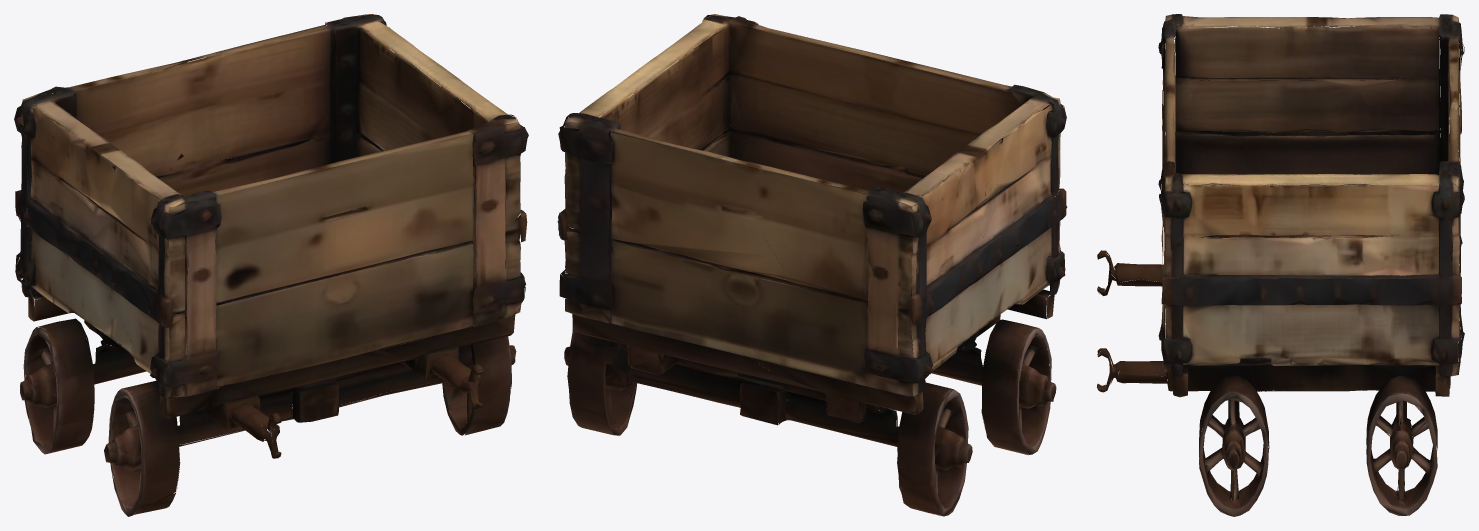
File: vagoneta_madera.glb
3 views of the same model, side by side, from view 1: azimuth 30°, elevation 25°; view 2: azimuth 150°, elevation 25°; view 3: azimuth 270°, elevation 25° (orthographic).
Visible parts, largest first — view 1: geometry_0; view 2: geometry_0; view 3: geometry_0.
Part boxes in pixels (bbox=[...]): geometry_0: bbox=[14, 14, 528, 516]; geometry_0: bbox=[557, 14, 1067, 516]; geometry_0: bbox=[1097, 14, 1464, 516].
Bounding box in the file's own units: 1.33 × 1.05 × 1.05.
1 material, 1 textured.
